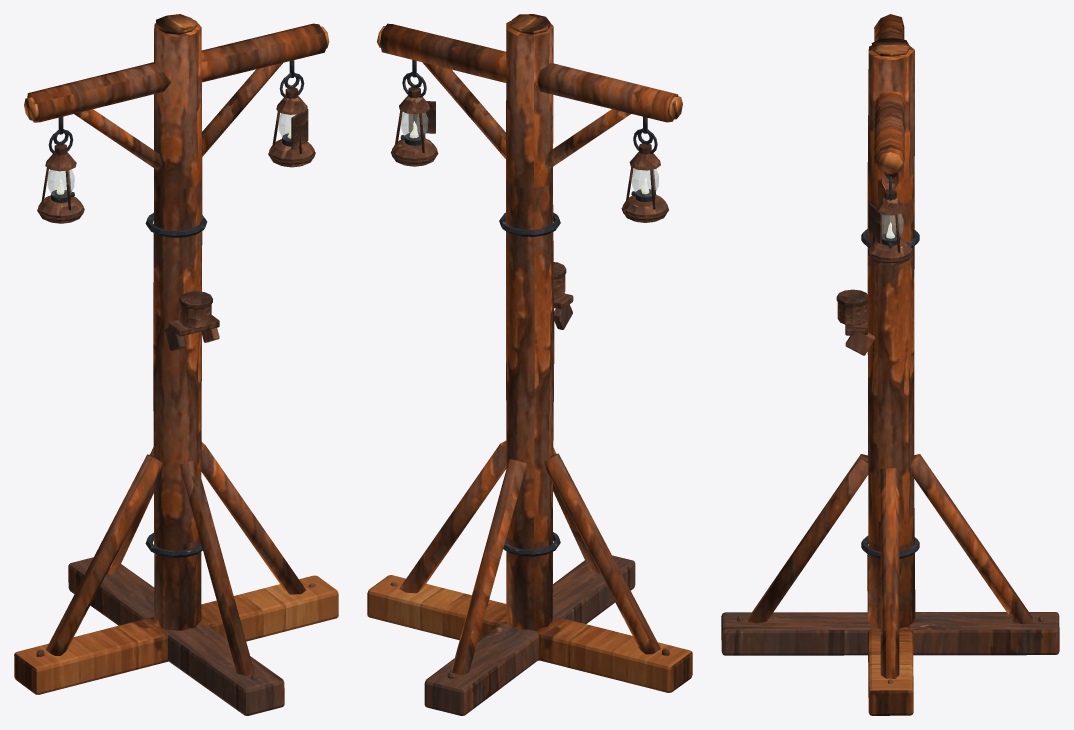
The model's file is lw_signal_lamp_post.glb.
3 renders of one model, left to right at view 1: azimuth 30°, elevation 25°; view 2: azimuth 150°, elevation 25°; view 3: azimuth 270°, elevation 25°, orthographic. The views are drawn at different scales.
Parts seen in each view (by area): view 1: model; view 2: model; view 3: model.
Part boxes in pixels (box(x1,y1,x2,y2)): model: box(14, 14, 338, 715); model: box(367, 14, 692, 715); model: box(721, 14, 1059, 715).
Size of the model in its own units: 0.8979 by 1.77 by 0.8978.
15 materials, 12 textured.
